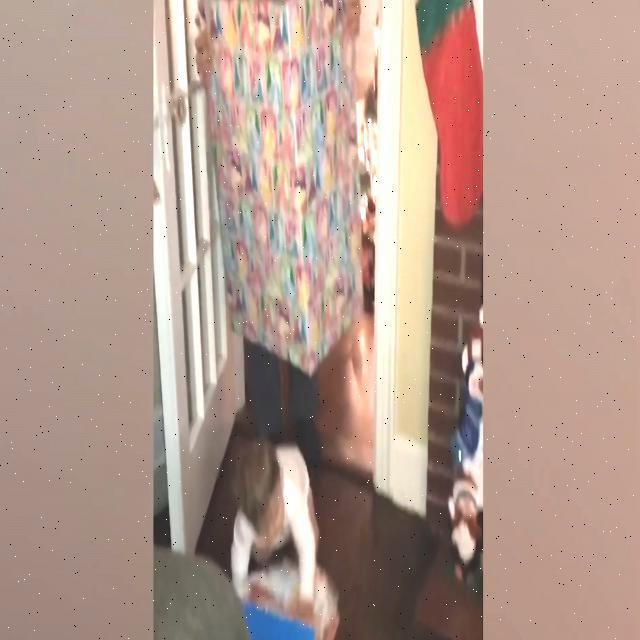child: (228, 432, 320, 619)
